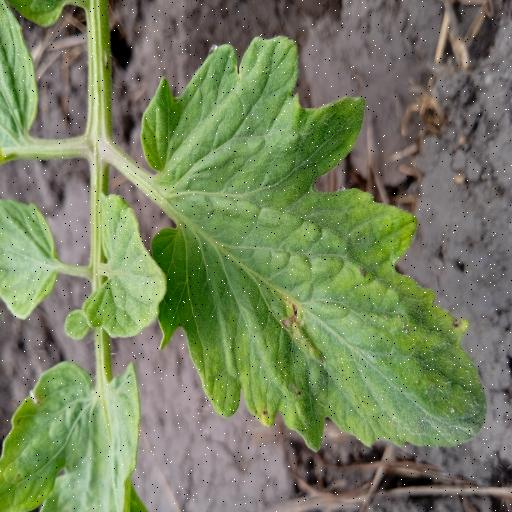Tomato_Brown_Spots: (121, 27, 492, 461), (0, 353, 146, 512)
